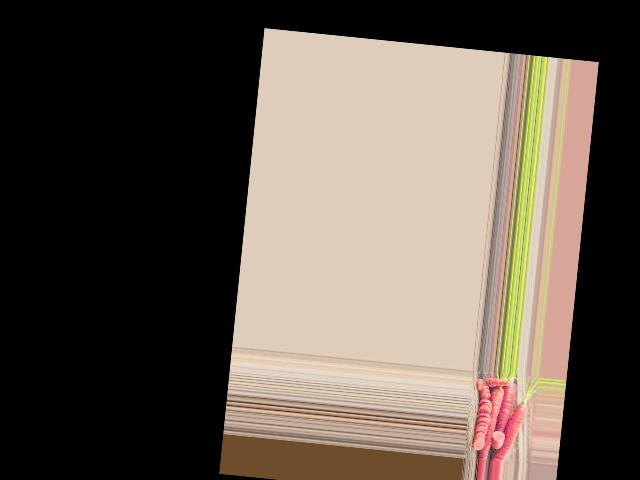carrot: (477, 381, 507, 462)
